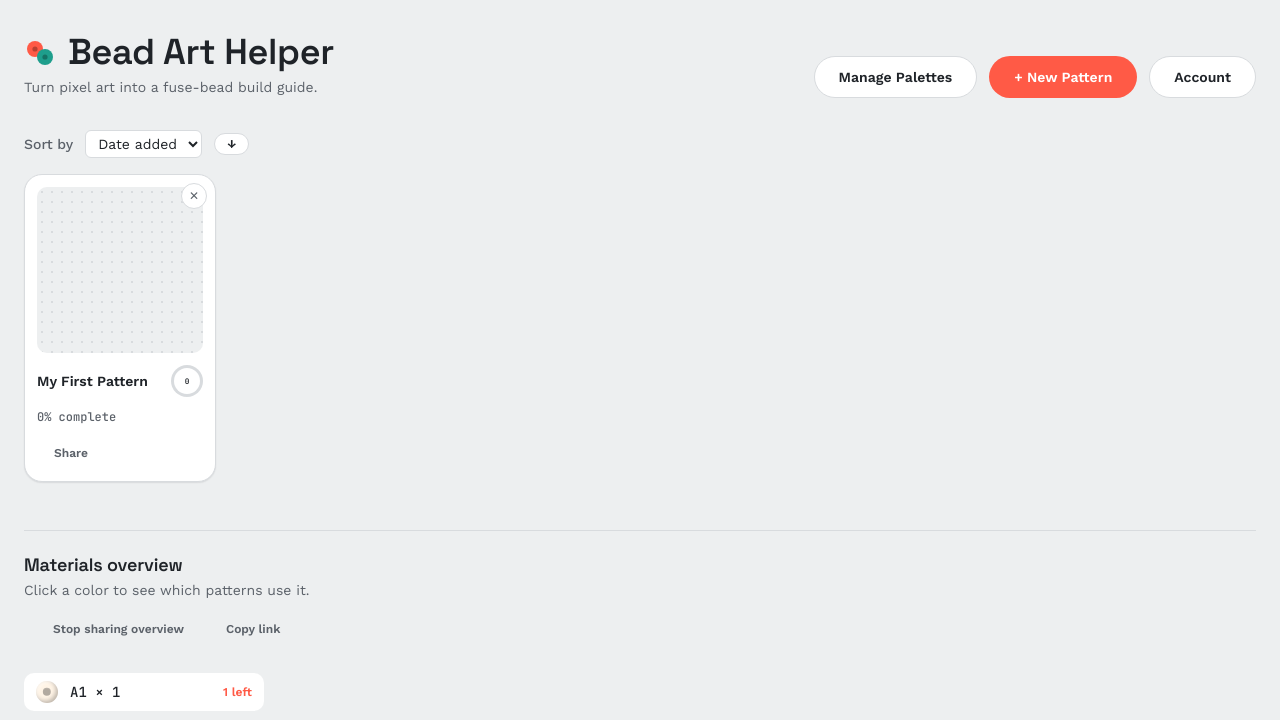
stops sharing the materials overview
Click the button "Stop sharing overview": (118, 629) x1=36 y1=613 x2=201 y2=645
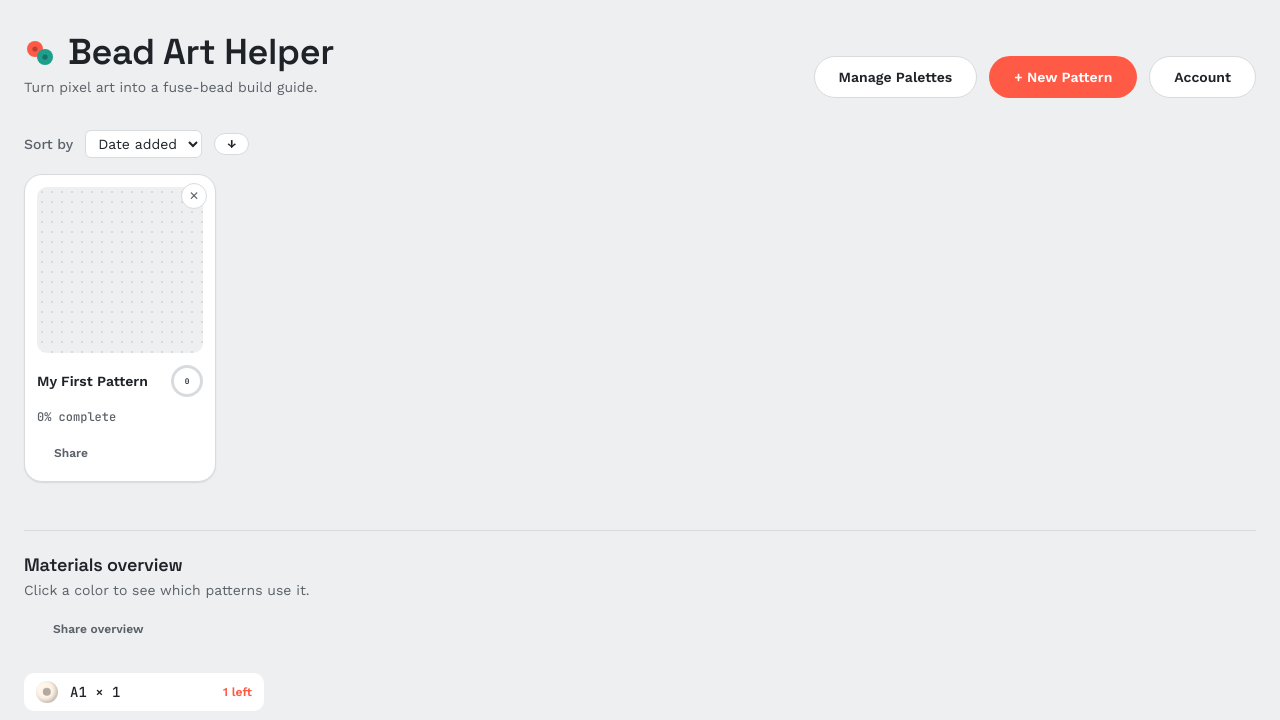
Now the button "Share overview" is shown, box x1=36 y1=613 x2=160 y2=645
